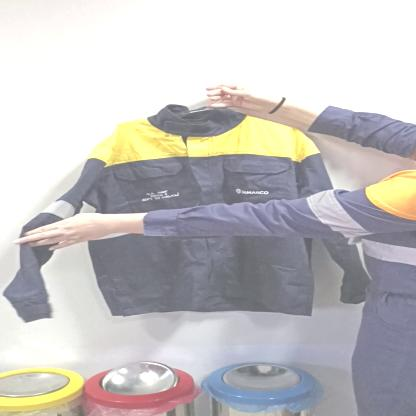C_eletrica: (17, 108, 366, 322)
